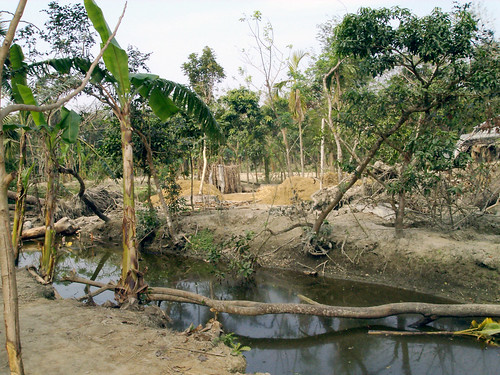river: (22, 224, 500, 375)
sky: (127, 1, 340, 74)
tree: (306, 19, 499, 253), (86, 1, 175, 311), (4, 66, 73, 307), (184, 53, 256, 204), (246, 10, 300, 194)
